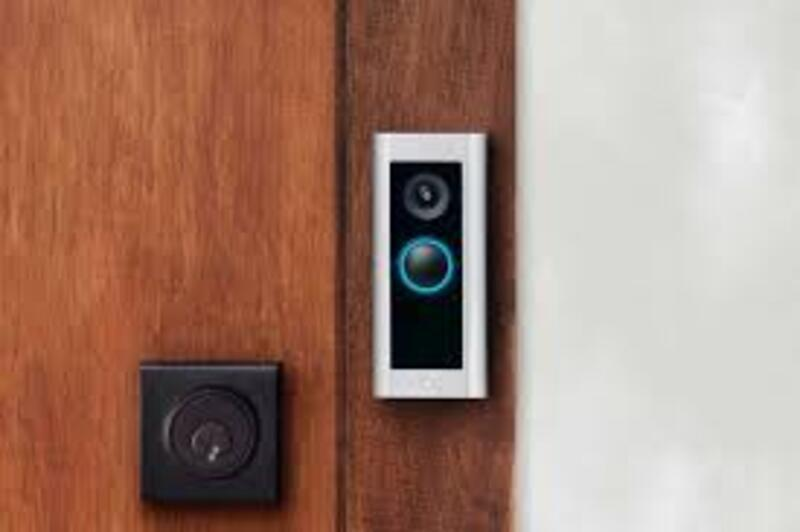doorbell: (365, 122, 488, 406)
